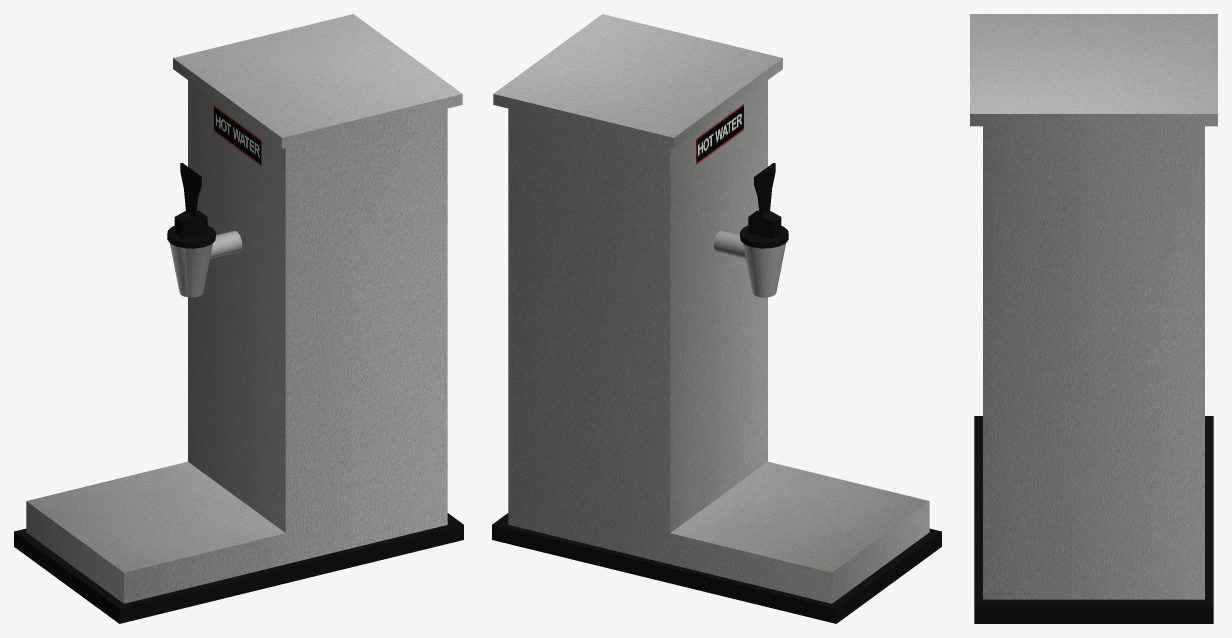
The model's file is Hot_Water.FBX.
3 renders of one model, left to right at view 1: azimuth 30°, elevation 25°; view 2: azimuth 150°, elevation 25°; view 3: azimuth 270°, elevation 25°, orthographic. The views are drawn at different scales.
Parts seen in each view (by area): view 1: Hot_Water; view 2: Hot_Water; view 3: Hot_Water.
Part boxes in pixels (x1=…): Hot_Water: x1=14, y1=14, x2=463, y2=623; Hot_Water: x1=492, y1=14, x2=941, y2=623; Hot_Water: x1=970, y1=14, x2=1217, y2=623.
Bounding box in the file's own units: 44 × 54.73 × 24.17.
